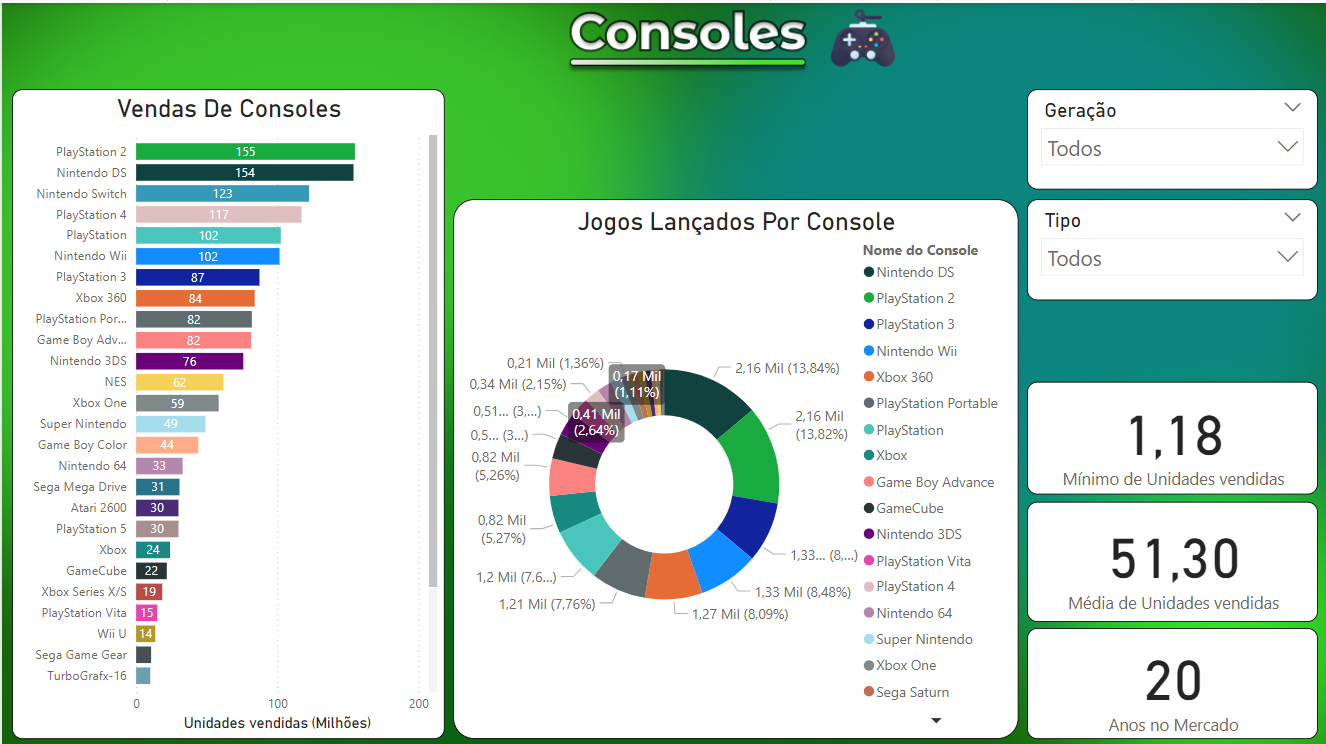

Layout of this report page (visuals, bound fields, positions):
{"tool":"powerbi","page":{"name":"Consoles","canvas":[1280,720],"ordinal":1},"visuals":[{"type":"card","fields":{"Values":["Avg(consoles-Final.Unidades vendidas (Milhões))"]},"box":[978.4,491,281.1,108.6],"z":0},{"type":"barChart","title":"Vendas De Consoles","fields":{"Category":["consoles-Final.Nome do Console"],"Y":["Sum(consoles-Final.Unidades vendidas (Milhões))"],"Series":["consoles-Final.Nome do Console"]},"box":[21.7,92.9,440.4,609.3],"z":1000},{"type":"card","title":"Duração no Mercado","fields":{"Values":["Max(consoles-Final.Duracao no Mercado)"]},"box":[978.4,603.2,281.1,91.7],"z":2000},{"type":"slicer","fields":{"Values":["consoles-Final.Geração"]},"box":[978.4,103.8,281.1,83.2],"z":3000},{"type":"card","fields":{"Values":["games-Final.Gênero Mais Popular"]},"box":[978.4,378.8,281.1,108.6],"z":4000},{"type":"slicer","fields":{"Values":["consoles-Final.Tipo"]},"box":[978.4,205.1,281.1,97.7],"z":5000},{"type":"donutChart","title":"Jogos Lançados Por Console","fields":{"Y":["CountNonNull(games-Final.Titulo)"],"Category":["consoles-Final.Nome do Console"]},"box":[494.6,222,453.6,480.2],"z":6000}]}

Visuals, with their boxes in screenshot pixels (x1, y1, x2, y2), scaled from the page's 1280x720 canvas onto the 1326x744 screenshot:
card - Avg(consoles-Final.Unidades vendidas (Milhões)): select_region(1014, 507, 1305, 620)
"Vendas De Consoles" barChart: select_region(22, 96, 479, 726)
"Duração no Mercado" card: select_region(1014, 623, 1305, 718)
slicer - consoles-Final.Geração: select_region(1014, 107, 1305, 193)
card - games-Final.Gênero Mais Popular: select_region(1014, 391, 1305, 504)
slicer - consoles-Final.Tipo: select_region(1014, 212, 1305, 313)
"Jogos Lançados Por Console" donutChart: select_region(512, 229, 982, 726)
